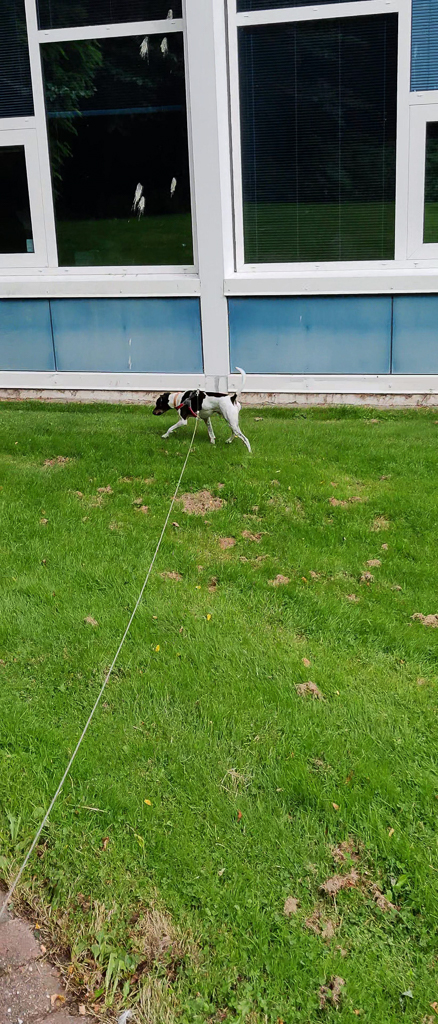Dog: (145, 358, 262, 458)
